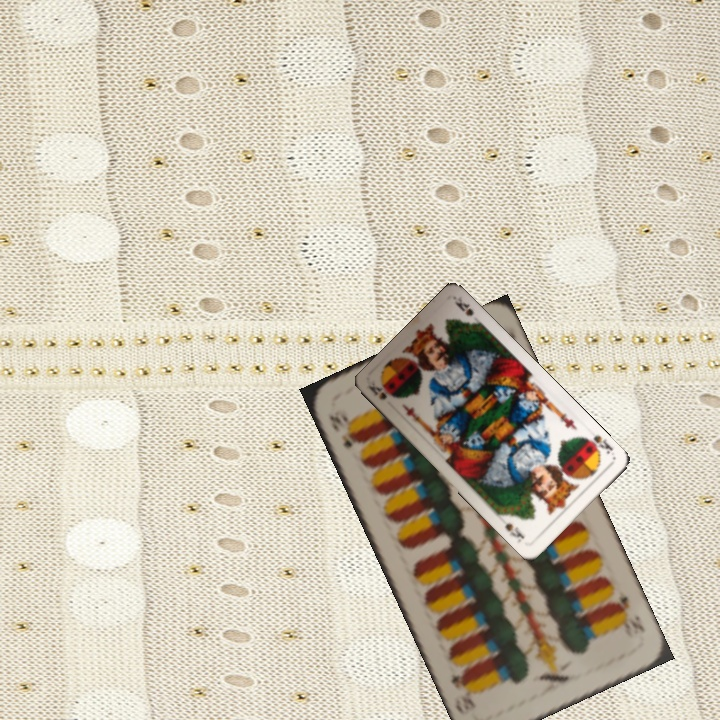E10: (609, 589, 648, 635), (325, 406, 361, 450)
SK: (582, 431, 615, 458), (365, 379, 389, 402)
